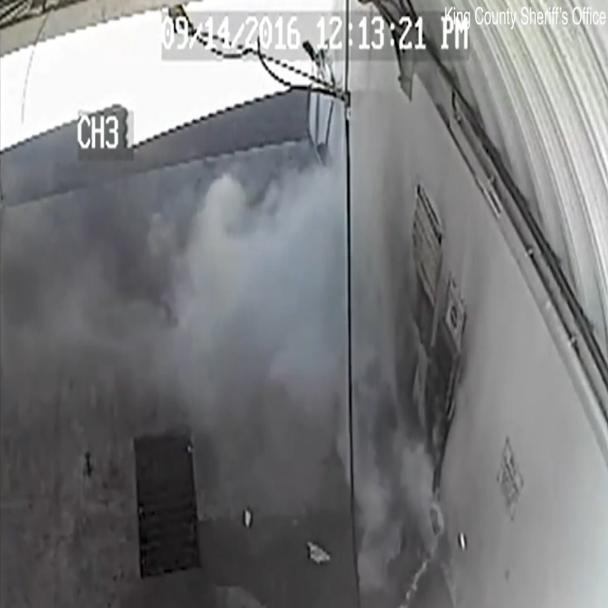smoke: (172, 123, 499, 607)
